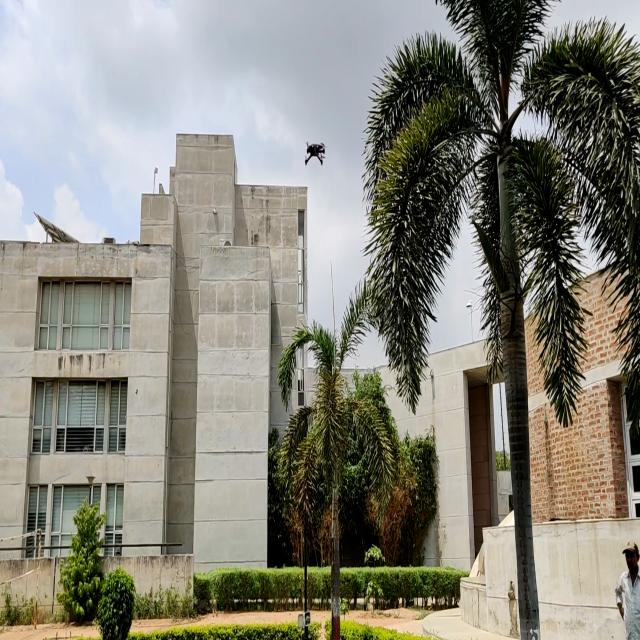drone: (299, 133, 334, 171)
